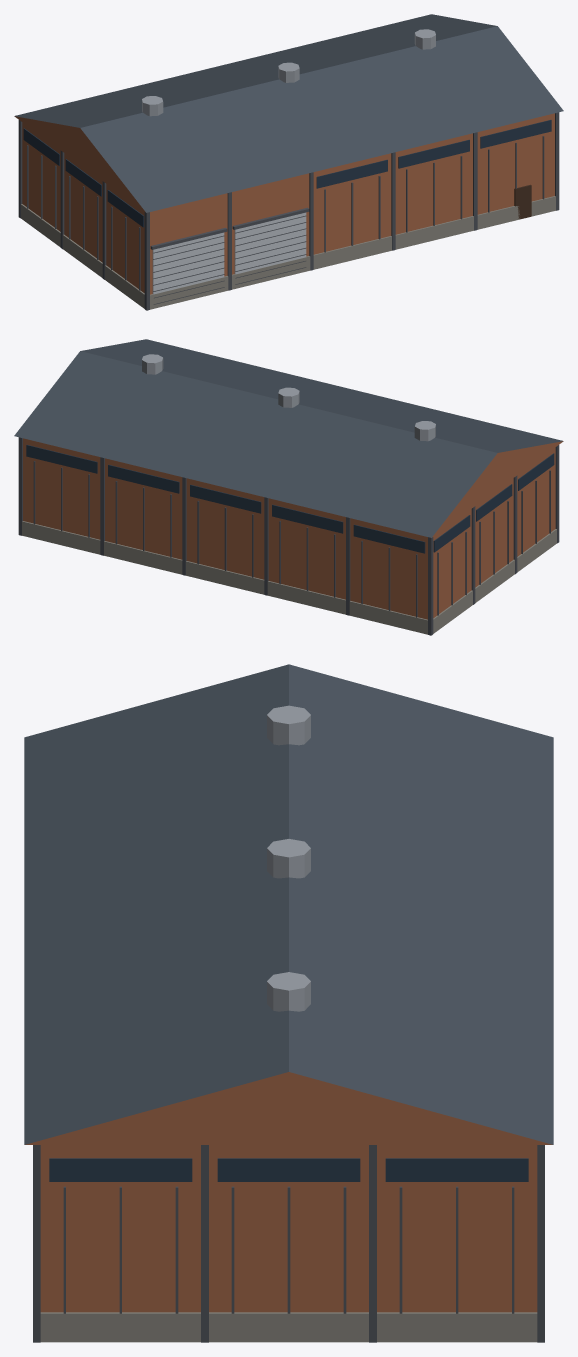
3 renders of one model, top to bottom at view 1: azimuth 30°, elevation 25°; view 2: azimuth 150°, elevation 25°; view 3: azimuth 270°, elevation 25°, orthographic. The views are drawn at different scales.
Parts seen in each view (by area): view 1: wh_b; view 2: wh_b; view 3: wh_b.
Boxes of the visible parts, x1,y1,x2,y2 form: wh_b: (14, 14, 563, 310); wh_b: (14, 339, 563, 635); wh_b: (24, 664, 553, 1342).
Size of what is drawn, in the model's own units: 30.6 by 10.26 by 16.8.
